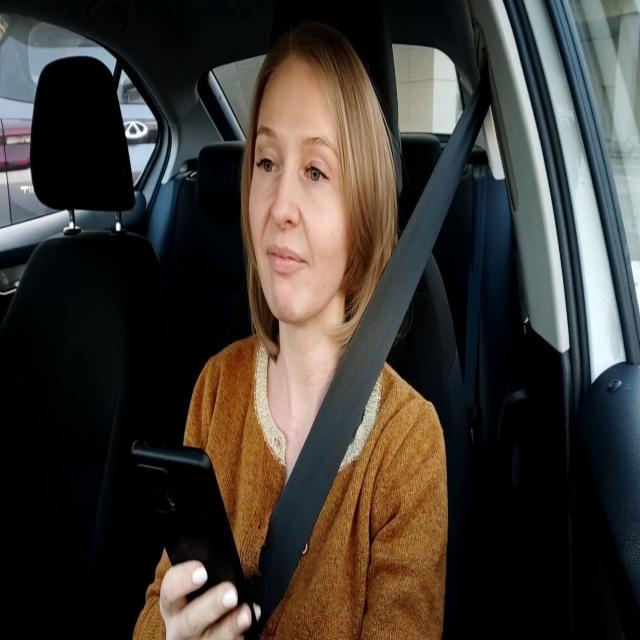phone: (129, 432, 261, 640)
